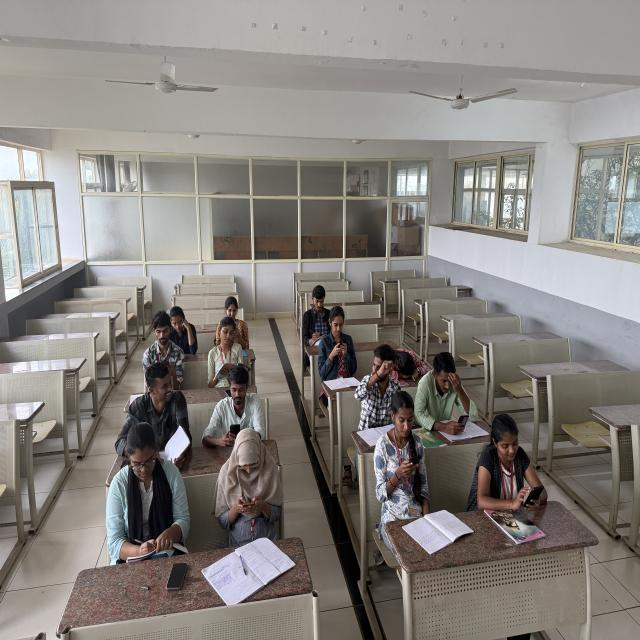Reading: (206, 314, 251, 385), (164, 304, 199, 358)
Sleeping: (386, 341, 431, 388)
Using Phone: (214, 425, 283, 540), (372, 383, 431, 515), (475, 411, 548, 514), (208, 363, 264, 446), (418, 350, 472, 434), (143, 308, 185, 388), (317, 304, 359, 368), (213, 294, 251, 350)
Writing: (102, 416, 190, 564), (300, 283, 336, 346)
